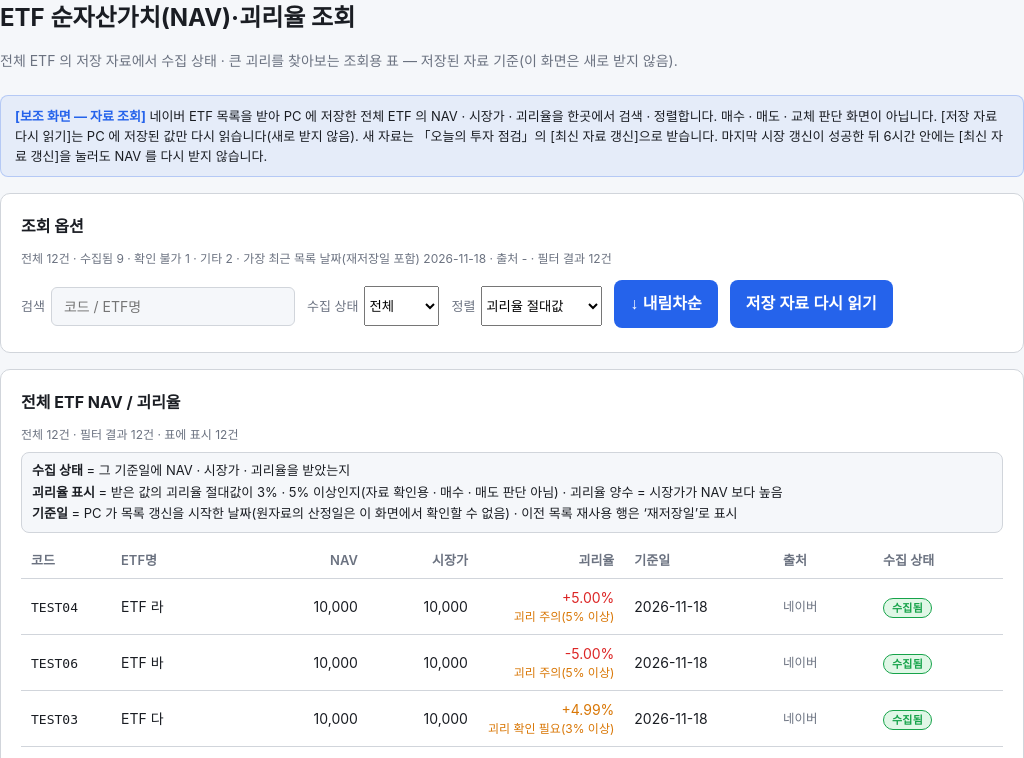
「ETF NAV·괴리율 조회」 화면 › 요약 '기타' 건수 = 고르기 '기타' 결과 건수(이전 목록 재사용 포함 · 같은 전체 목록 · 같은 조건)
Expected: the element with test id "ds-summary" shows "전체 12건 · 수집됨 9 · 확인 불가 1 · 기타 2 ·", [21,251,612,266]
Expected: the text with test id "ds-count-other" reads "2", [226,251,233,266]
Select "기타" in the dropdown labelled "수집 상태" at (402, 306), box [364,286,439,326]
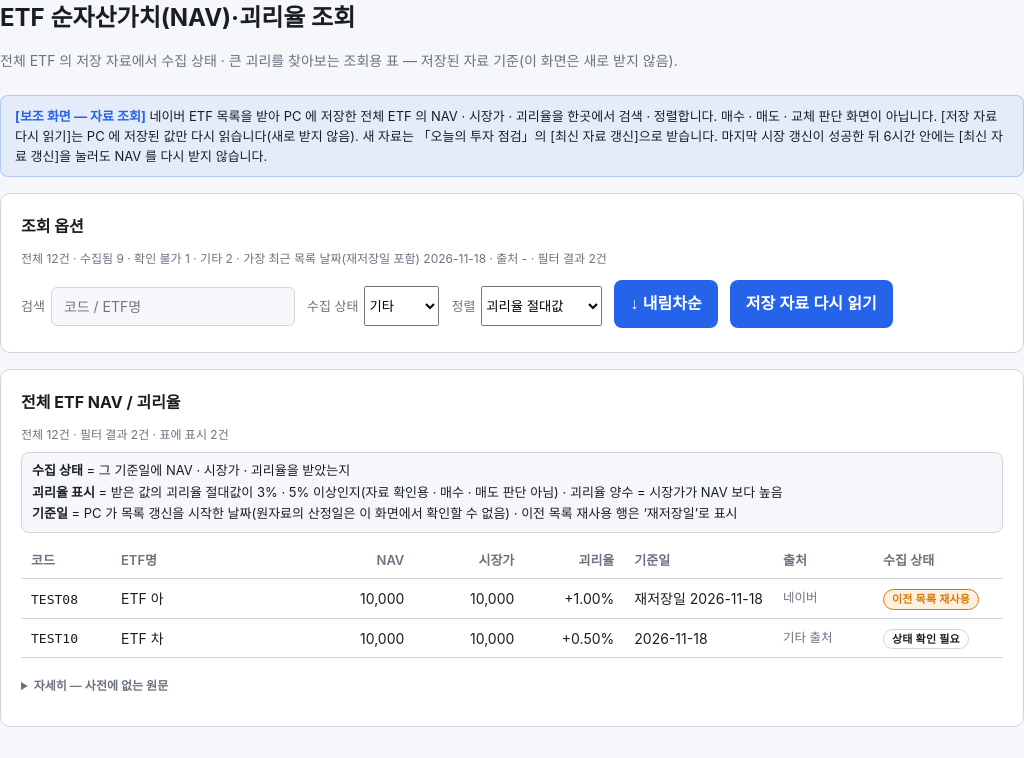
Expected: the text "TEST08" is shown, [31,592,78,607]
Now the text with test id "ds-count-filtered" reads "2", box [588,251,596,266]
Select "수집됨" in the dropdown labelled "수집 상태" at (402, 306), box [364,286,439,326]
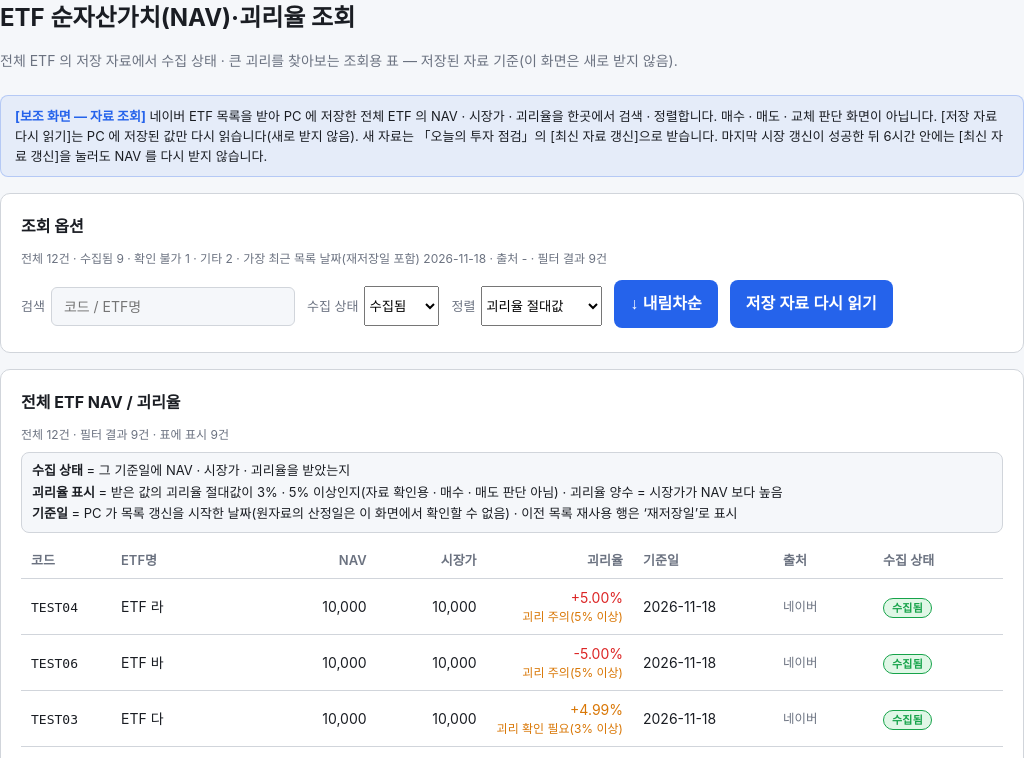
Select "확인 불가" in the dropdown labelled "수집 상태" at (402, 306), box [364,286,439,326]
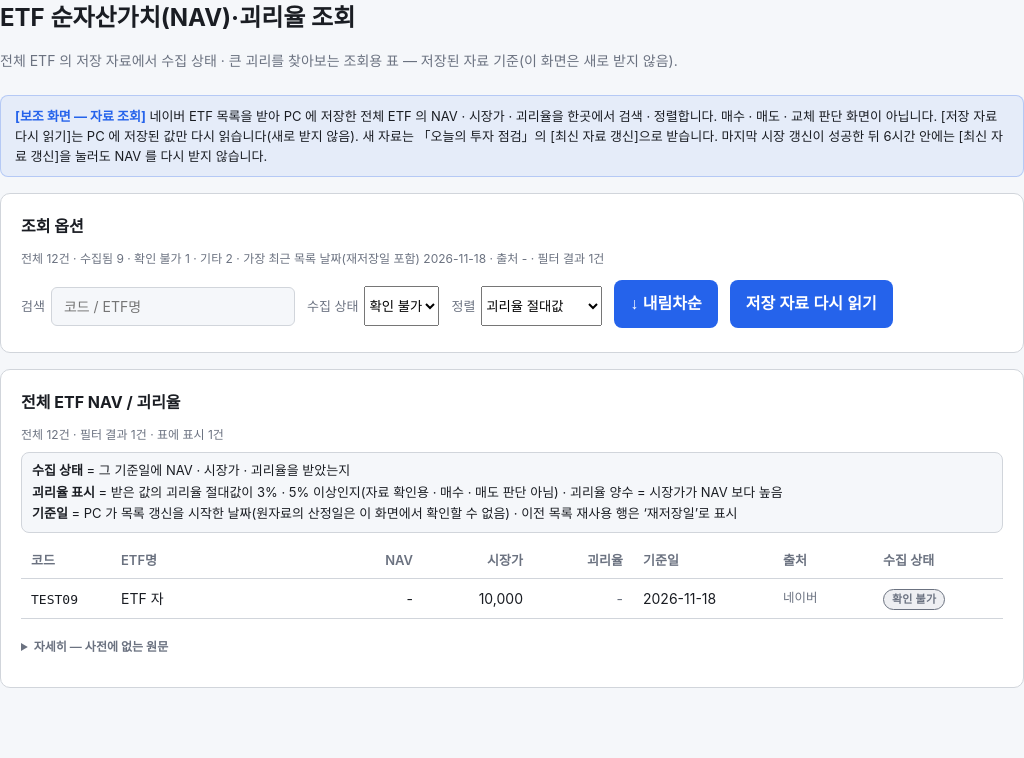
Expected: the element with test id "ds-summary" shows "전체 12건 · 수집됨 9 · 확인 불가 1 · 기타 2 ·", [21,251,604,266]
Now the text "TEST09" is shown, box [31,592,78,607]
